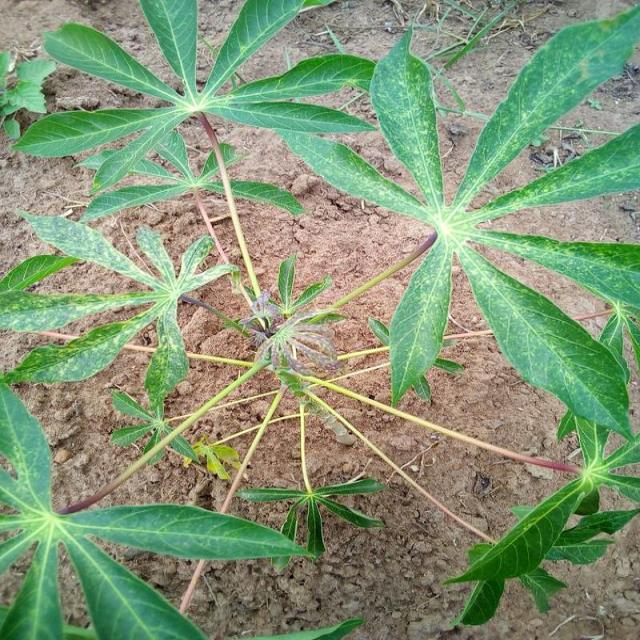cassava leaf: (2, 1, 640, 636), (275, 6, 640, 443), (456, 237, 635, 442)
